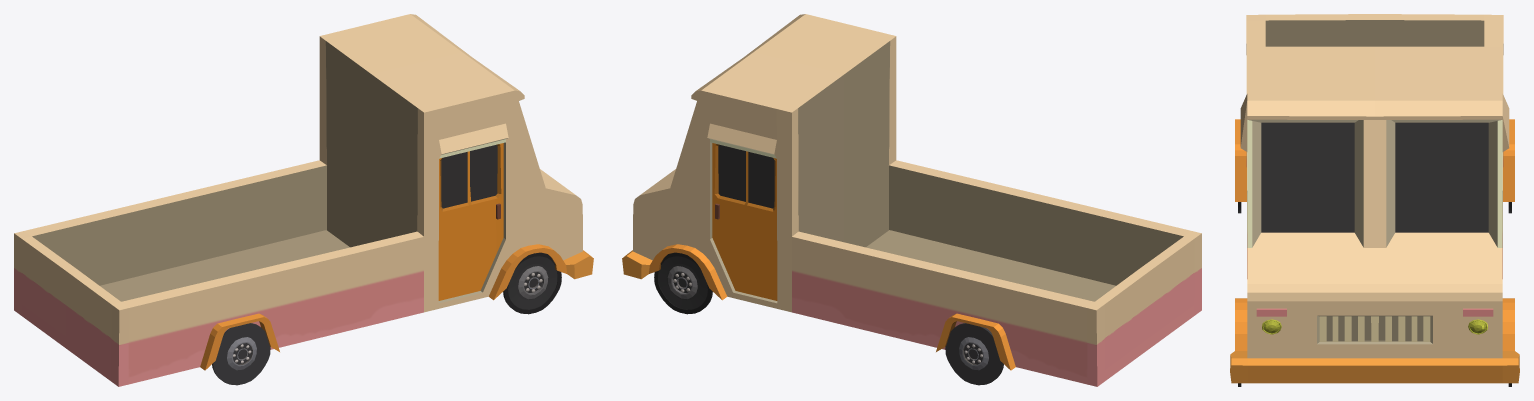
The model's file is Food_Truck_New_Version.fbx.
3 views of the same model, side by side, from view 1: azimuth 30°, elevation 25°; view 2: azimuth 150°, elevation 25°; view 3: azimuth 270°, elevation 25° (orthographic). The views are drawn at different scales.
Parts seen in each view (by area): view 1: pack island; view 2: pack island; view 3: pack island.
Part boxes in pixels (x1,y1,x2,y2): pack island: [14, 14, 593, 386]; pack island: [622, 14, 1201, 386]; pack island: [1230, 14, 1519, 386].
Bounding box in the file's own units: 1540 × 701 × 674.
